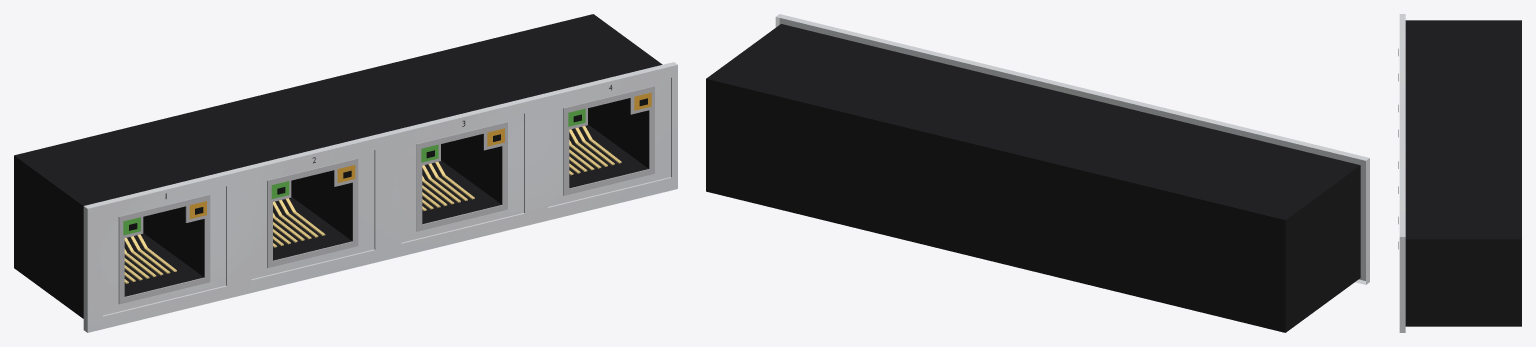
3 views of the same model, side by side, from view 1: azimuth 30°, elevation 25°; view 2: azimuth 150°, elevation 25°; view 3: azimuth 270°, elevation 25° (orthographic). The views are drawn at different scales.
Visible parts, largest first — view 1: NDC; view 2: NDC; view 3: NDC.
Boxes of the visible parts, x1,y1,x2,y2 form: NDC: (14,14,677,332); NDC: (706,14,1369,332); NDC: (1399,14,1521,332).
Bounding box in the file's own units: 0.0876 × 0.0176 × 0.0206.
8 materials, 1 textured.
